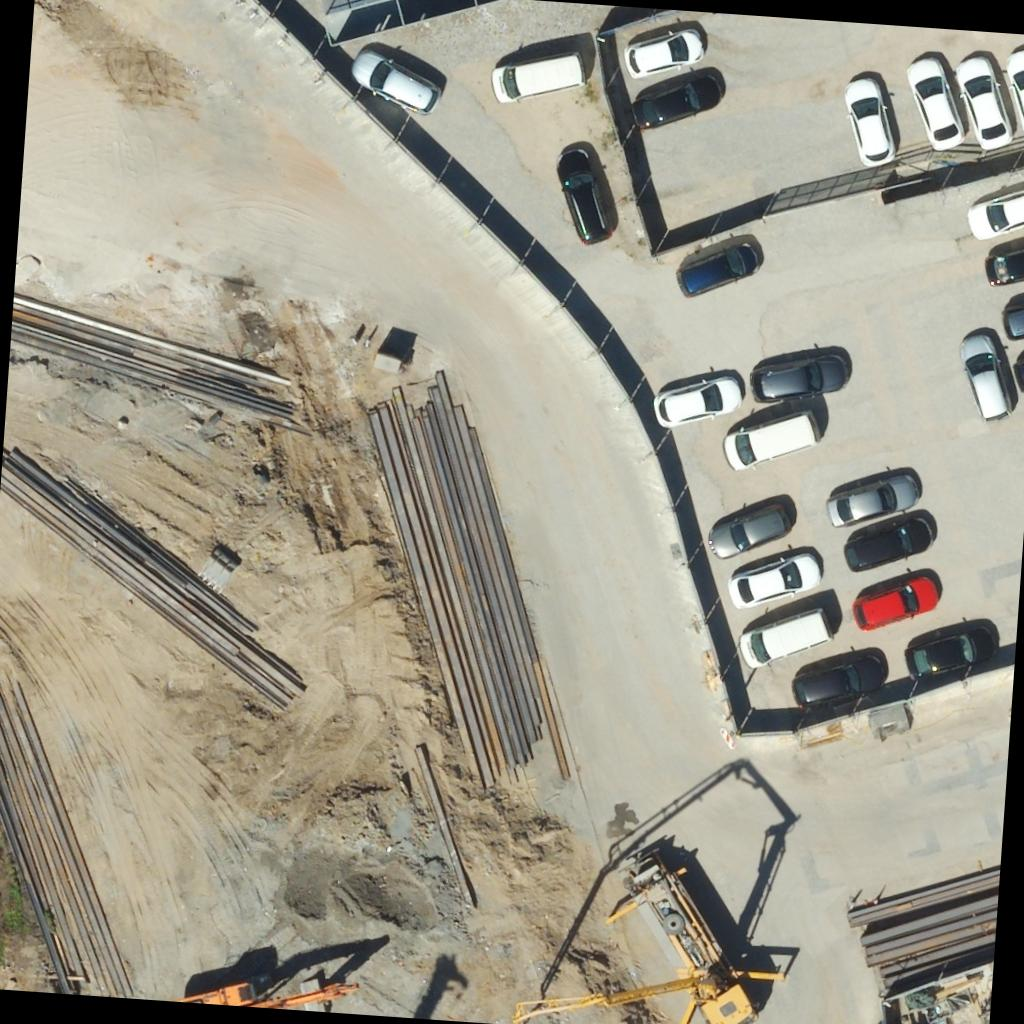betoniarka: (513, 840, 792, 1024)
koparka: (178, 972, 358, 1013)
samochod_osobowy: (552, 146, 618, 246), (724, 407, 820, 475), (728, 546, 823, 614), (349, 45, 443, 113), (739, 604, 833, 672), (950, 55, 1016, 151), (750, 344, 852, 406), (826, 466, 922, 531), (791, 647, 887, 712), (902, 56, 968, 150), (844, 510, 934, 576), (632, 70, 723, 134), (652, 368, 743, 432), (852, 569, 940, 635), (490, 48, 586, 108), (956, 331, 1018, 422), (676, 238, 762, 302), (708, 498, 794, 562), (904, 624, 996, 683), (841, 78, 899, 166), (624, 25, 705, 82), (967, 180, 1024, 243), (1002, 47, 1024, 137), (985, 238, 1024, 287), (1002, 296, 1024, 340), (1012, 346, 1024, 392)
